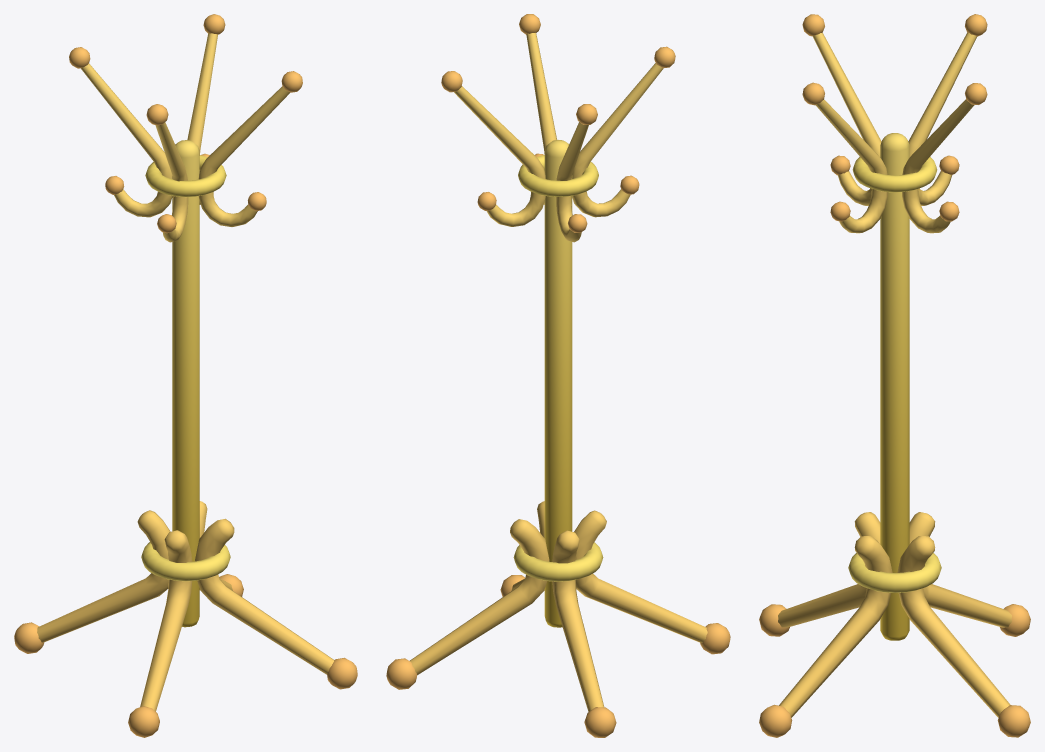
The model's file is Hanger_04.glb.
3 renders of one model, left to right at view 1: azimuth 30°, elevation 25°; view 2: azimuth 150°, elevation 25°; view 3: azimuth 270°, elevation 25°, orthographic. The views are drawn at different scales.
Parts seen in each view (by area): view 1: Hanger_04; view 2: Hanger_04; view 3: Hanger_04.
Boxes of the visible parts, bbox=[...] form: Hanger_04: bbox=[14, 14, 357, 737]; Hanger_04: bbox=[386, 14, 730, 737]; Hanger_04: bbox=[759, 14, 1030, 737].
Size of the model in its own units: 0.6761 by 1.75 by 0.6761.
1 material, 1 textured.
